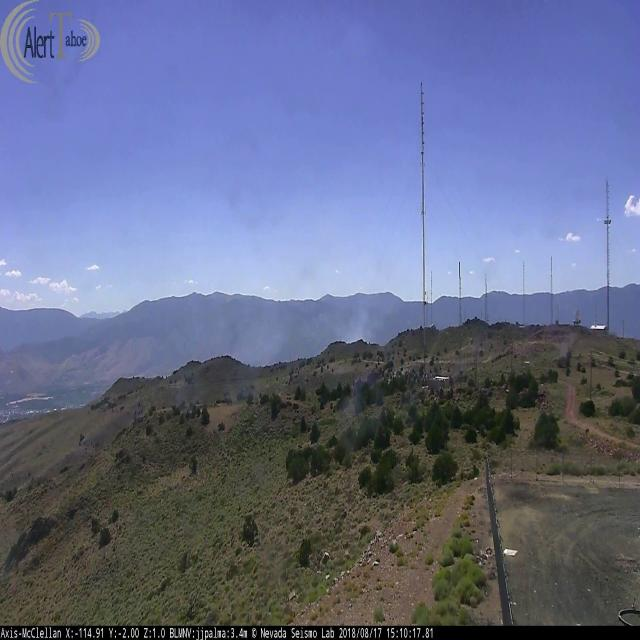smoke: (147, 55, 387, 378)
